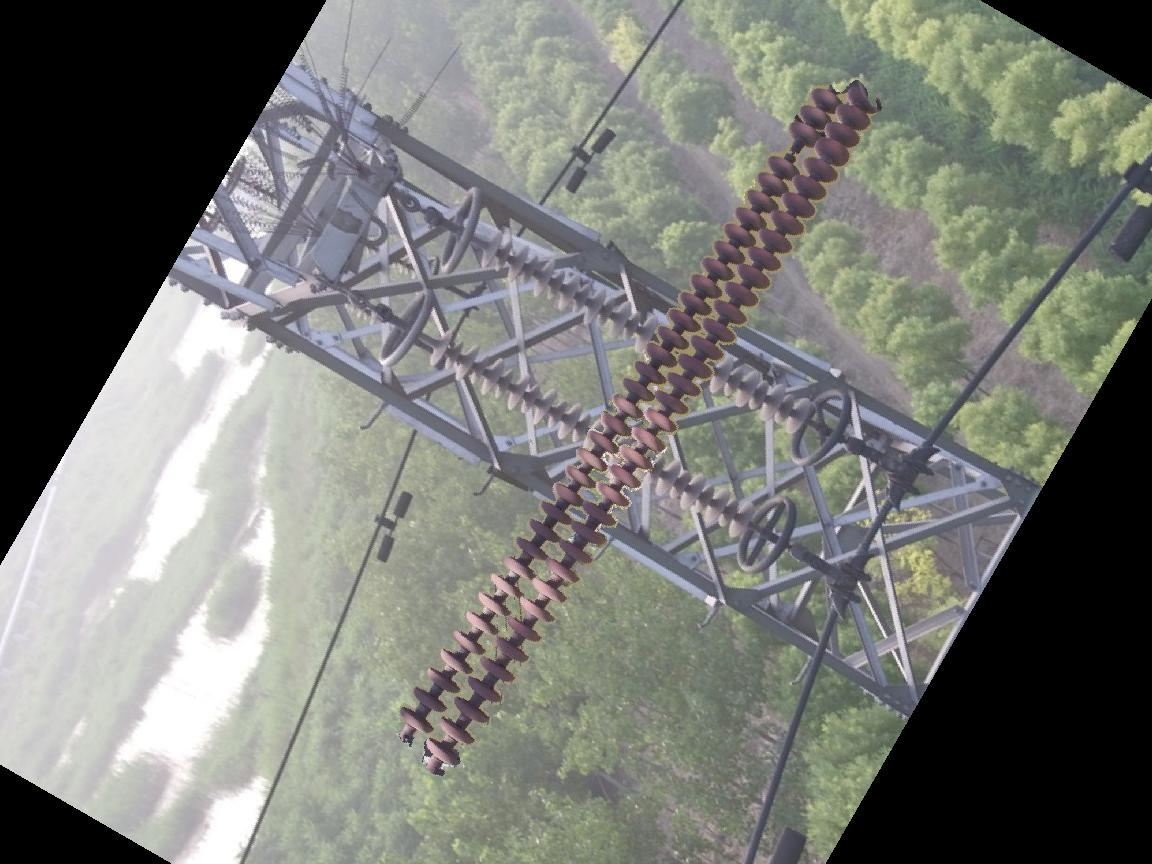insulator: (395, 76, 881, 780), (473, 225, 823, 447), (429, 327, 768, 550)
insulator_stringdrop: (766, 117, 820, 182)
